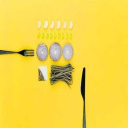fork: (1, 45, 39, 60)
